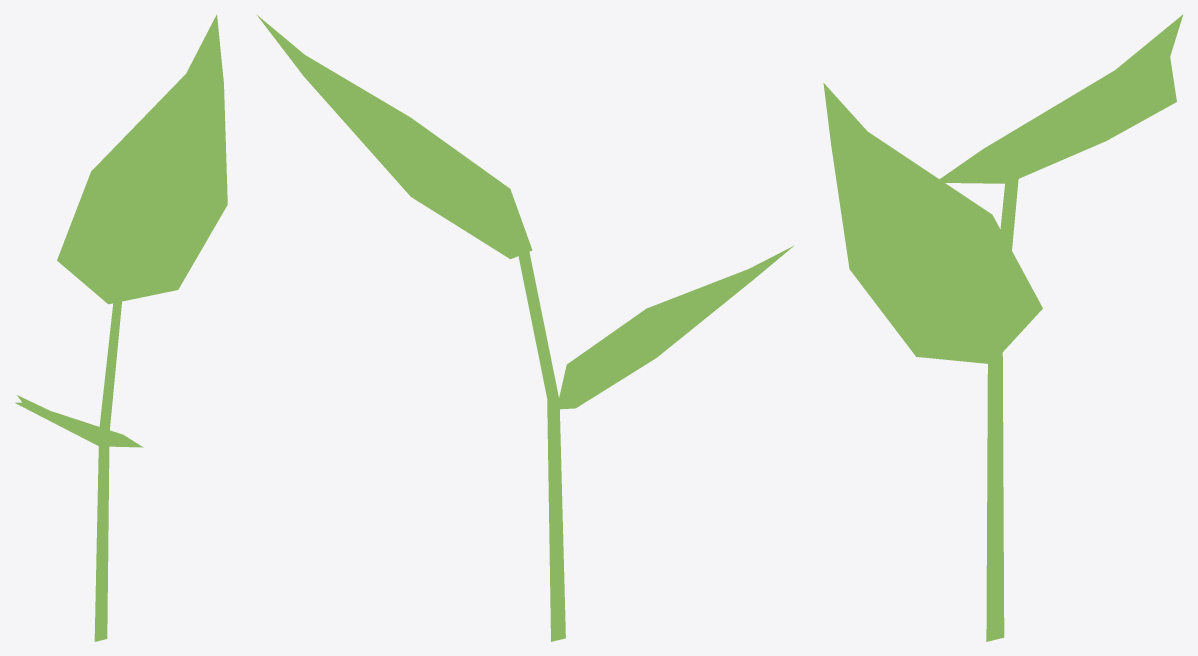
File: Plant_f_OneS_02.fbx
The picture shows the model from 3 angles, left to right: view 1: azimuth 30°, elevation 25°; view 2: azimuth 150°, elevation 25°; view 3: azimuth 270°, elevation 25°; orthographic projection. The views are drawn at different scales.
Visible parts, largest first — view 1: Plant_f_OneS_02; view 2: Plant_f_OneS_02; view 3: Plant_f_OneS_02.
Boxes of the visible parts, x1,y1,x2,y2 form: Plant_f_OneS_02: [15, 14, 227, 641]; Plant_f_OneS_02: [256, 14, 794, 641]; Plant_f_OneS_02: [823, 14, 1183, 641].
Bounding box in the file's own units: 0.3162 × 0.4896 × 0.2125.
